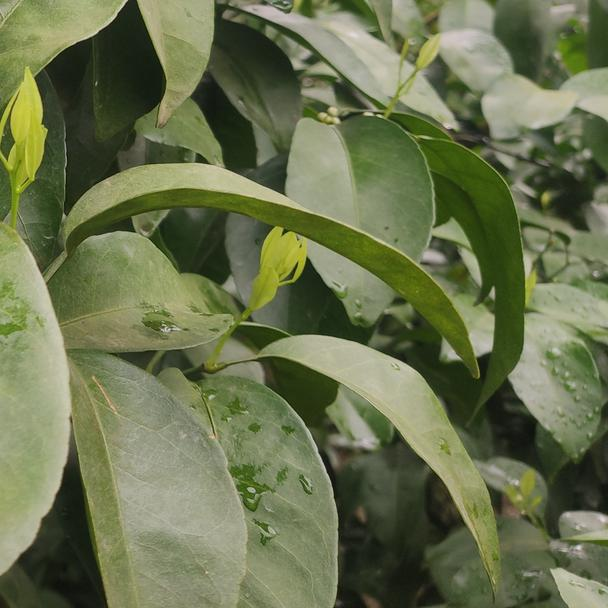shoot: (243, 224, 311, 315), (3, 70, 50, 197)
